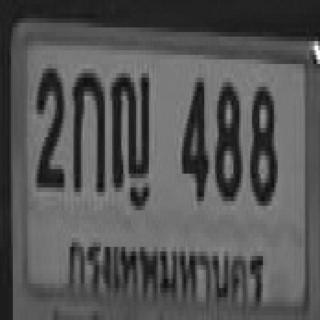A01: (72, 69, 103, 187)
A13: (110, 69, 149, 187)
N02: (35, 64, 62, 183)
N04: (180, 73, 206, 196)
N08: (248, 82, 276, 201), (213, 78, 239, 197)
P04: (63, 231, 271, 315)
